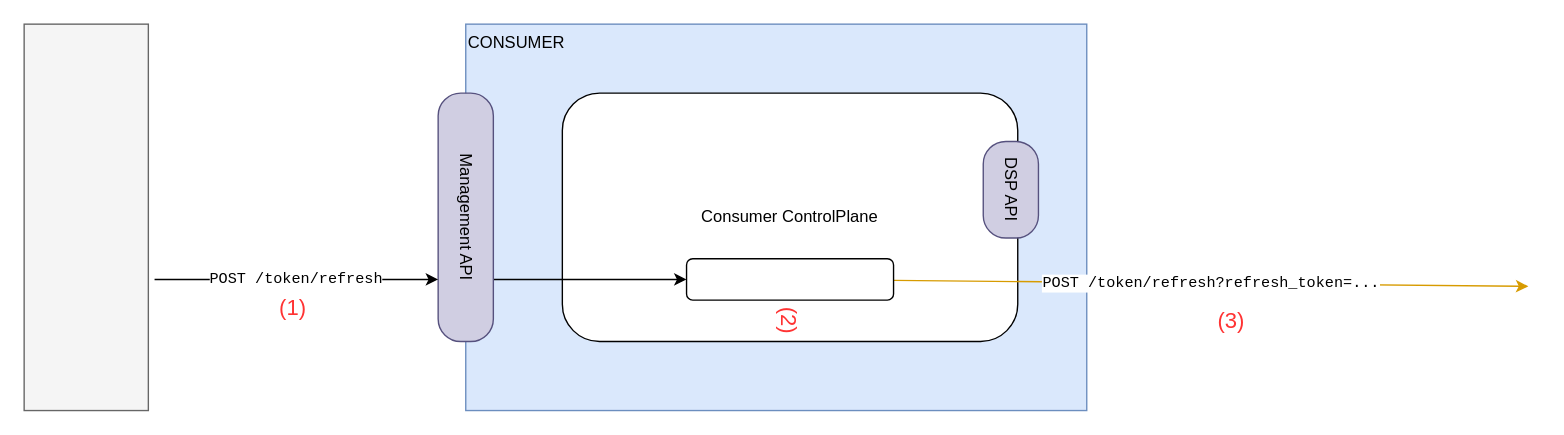
This 1564x435 diagram has some shape labels left out. The shapes that lost their labels are listed below. From the top down, each one's centre as x and y in pixels, then its label:
(85,217): CLIENT APPLICATION
(789,278): TokenRefreshHandler
